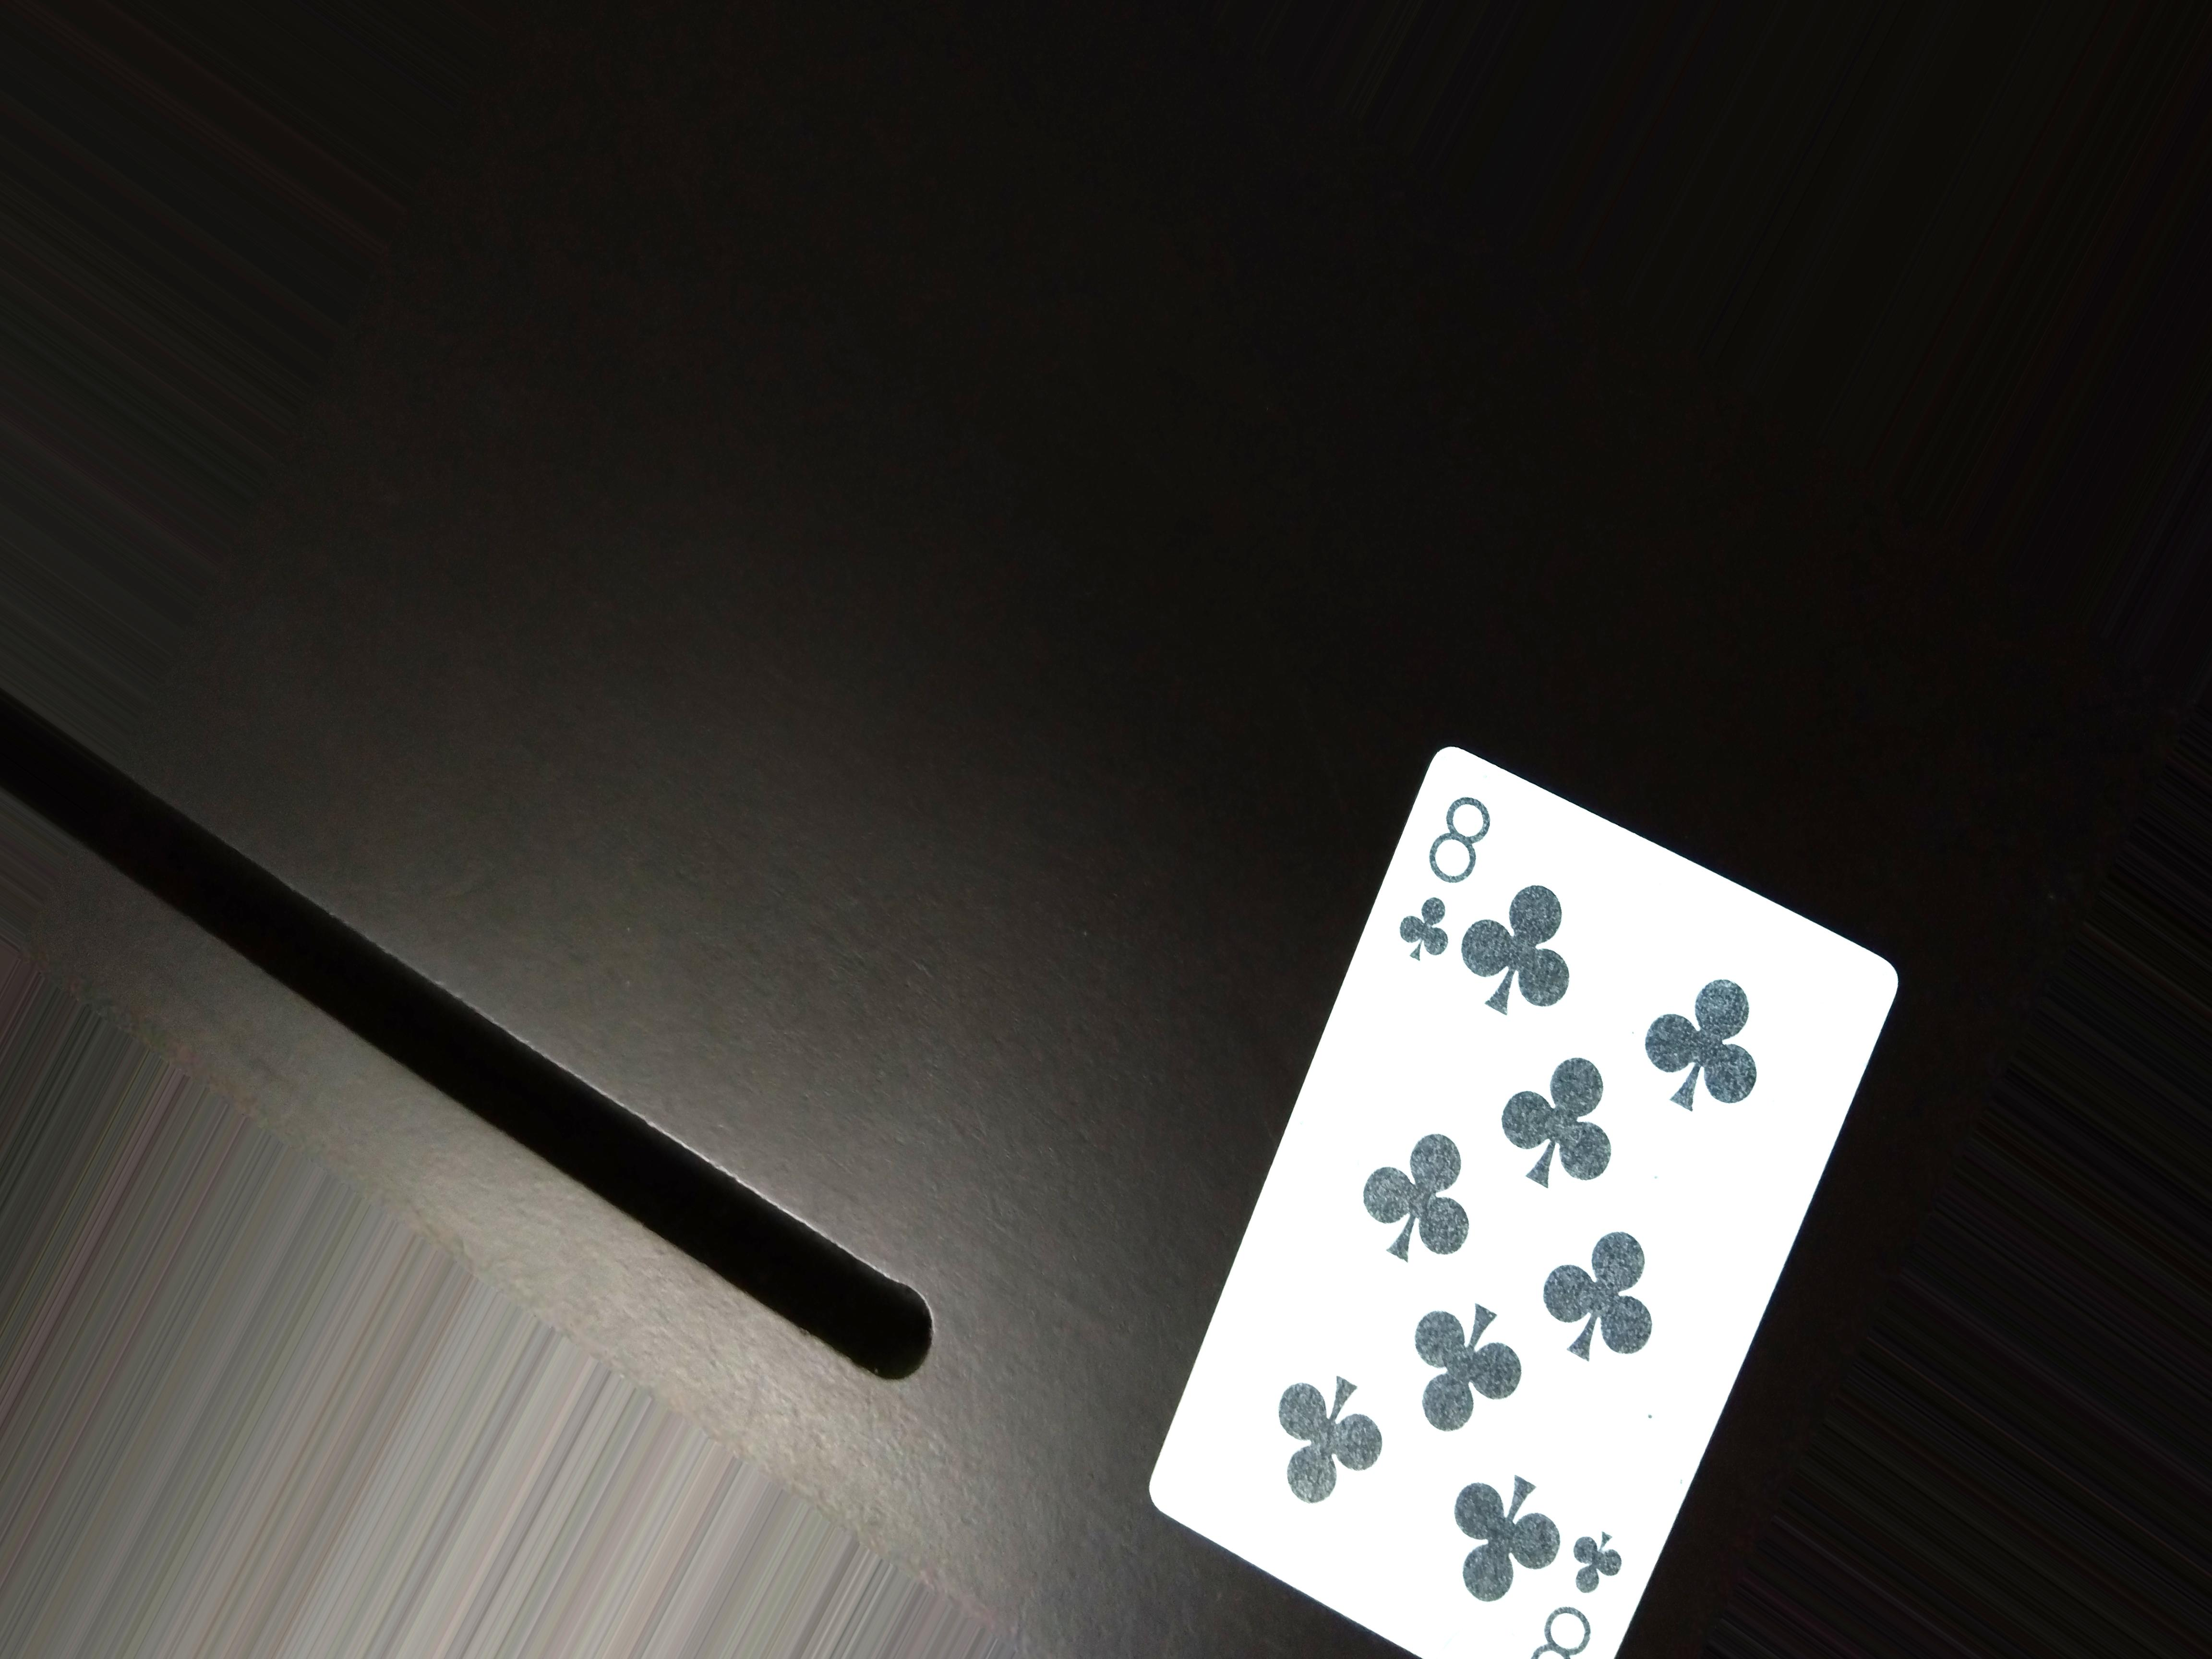8C: (1397, 769, 1493, 979)
